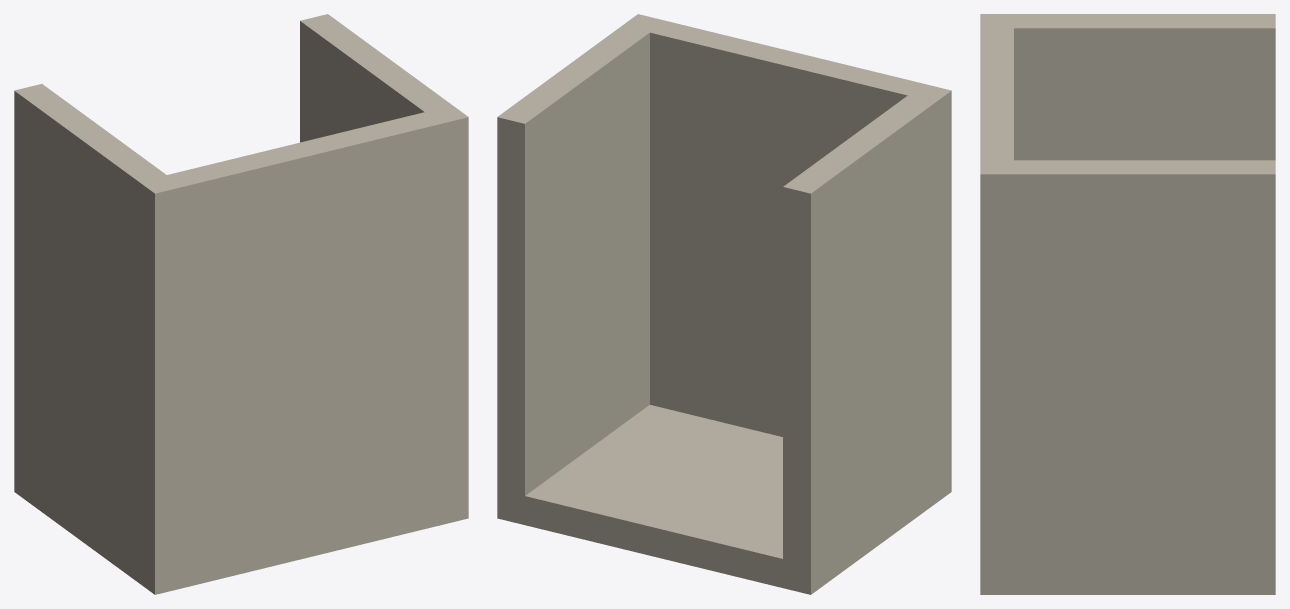
Rendered from laundry_basket.glb.
The picture shows the model from 3 angles, left to right: view 1: azimuth 30°, elevation 25°; view 2: azimuth 150°, elevation 25°; view 3: azimuth 270°, elevation 25°; orthographic projection. The views are drawn at different scales.
Parts seen in each view (by area): view 1: body; view 2: body; view 3: body.
Boxes of the visible parts, x1,y1,x2,y2 form: body: (14,14,468,594); body: (497,14,951,594); body: (980,14,1275,594).
Bounding box in the file's own units: 0.45 × 0.55 × 0.35.
